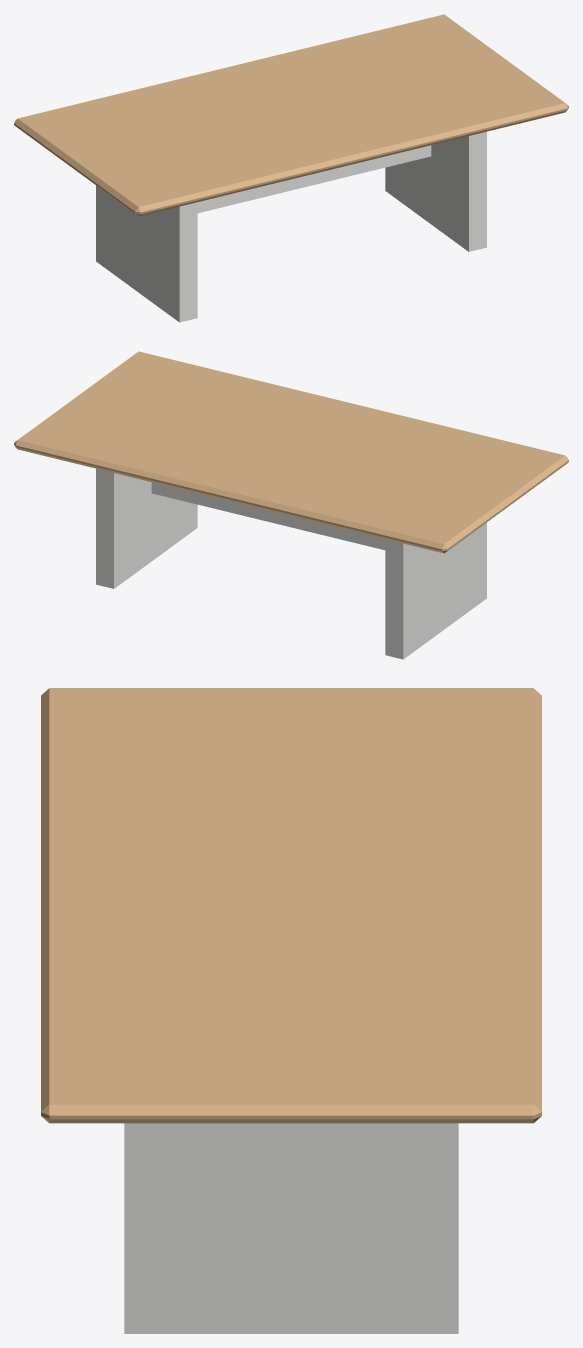
Rendered from meeting_table.glb.
The picture shows the model from 3 angles, top to bottom: view 1: azimuth 30°, elevation 25°; view 2: azimuth 150°, elevation 25°; view 3: azimuth 270°, elevation 25°; orthographic projection. The views are drawn at different scales.
Visible parts, largest first — view 1: meeting_table; view 2: meeting_table; view 3: meeting_table.
Boxes of the visible parts, x1,y1,x2,y2 form: meeting_table: [14, 14, 568, 322]; meeting_table: [14, 351, 568, 659]; meeting_table: [41, 688, 541, 1333].
Size of the model in its own units: 2.4 by 0.76 by 1.2.
1 material, 1 textured.
